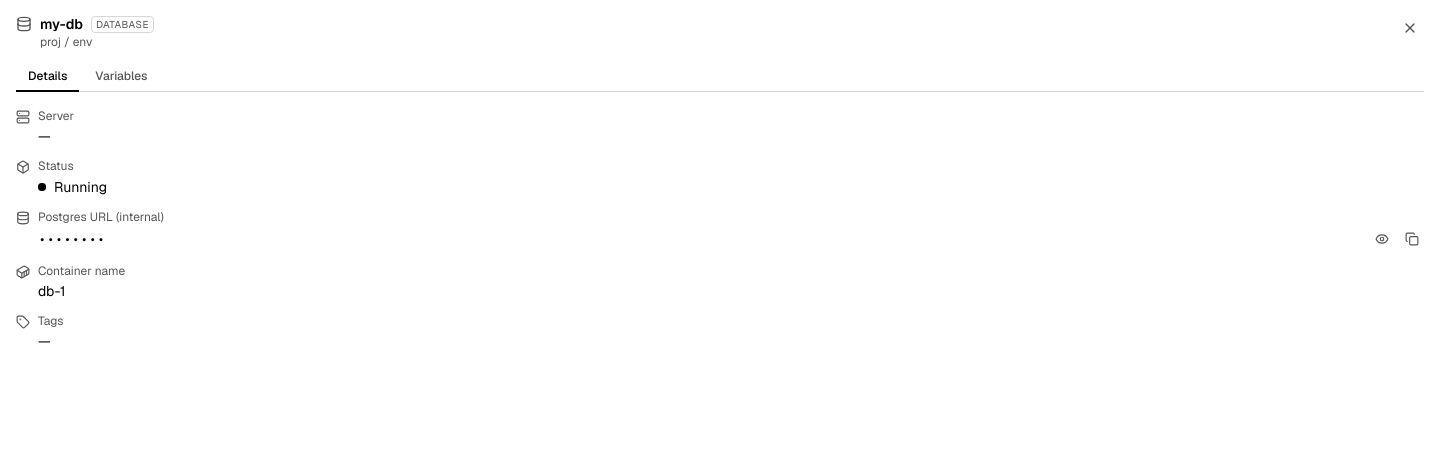
Test: DatabaseCopyMenu gating in the resource drawer › keeps the menu open and surfaces the failure when the clipboard write rejects
Click the button named "copy connection url" at (1412, 239), box [1400, 227, 1424, 251]
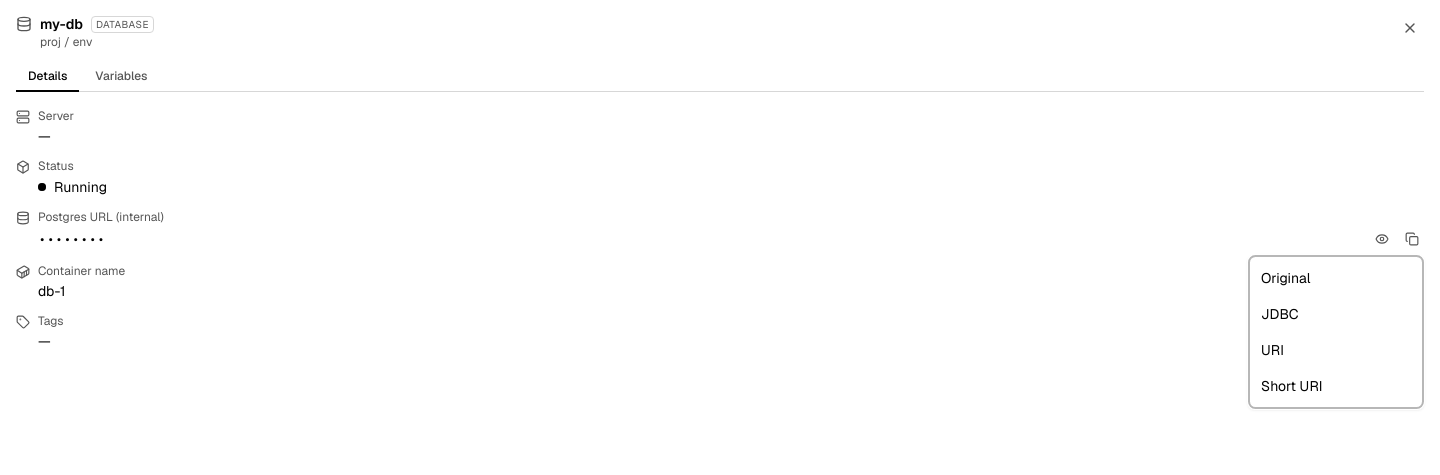
Click the menu item "JDBC" at (1336, 314), box [1249, 296, 1423, 332]
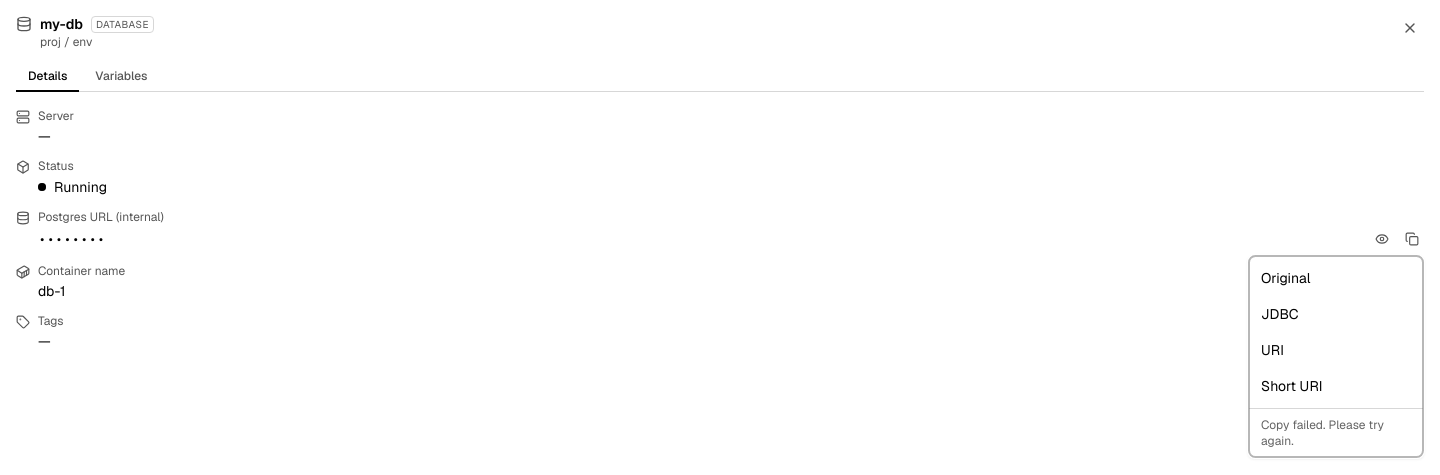
Now the menu item "JDBC" is shown
Now the text "Copy failed. Please try again." is shown, box [1249, 408, 1423, 457]
Click the menu item "JDBC" at (1336, 314), box [1249, 296, 1423, 332]
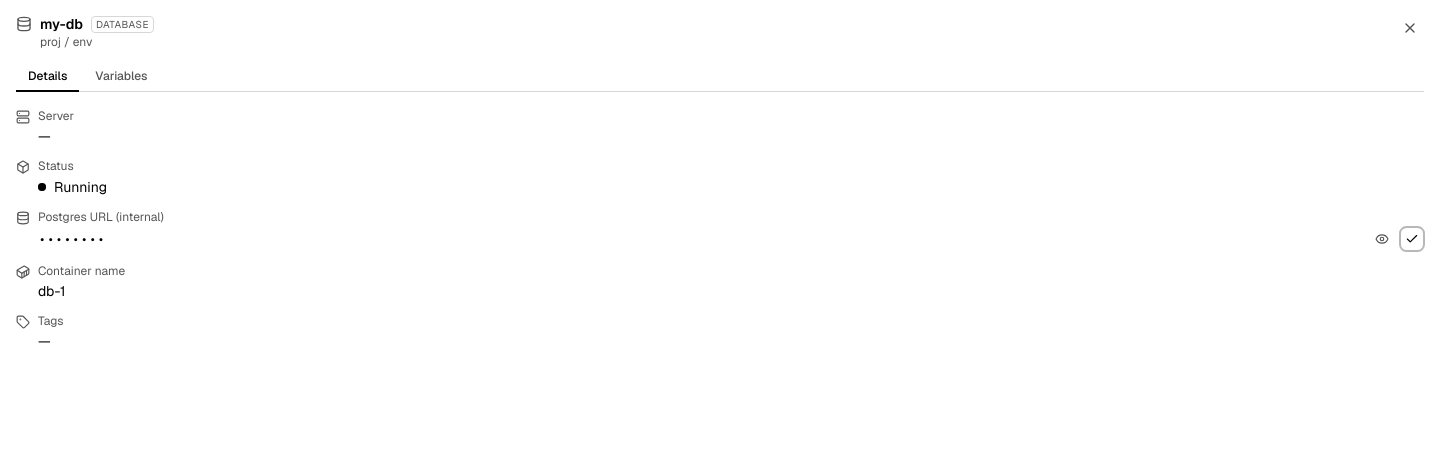
Now the menu item "JDBC" is gone
Now the text "Copy failed" is gone
